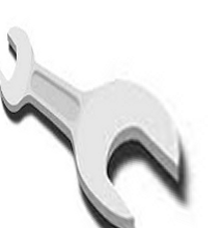Wrench: (4, 20, 222, 228)
